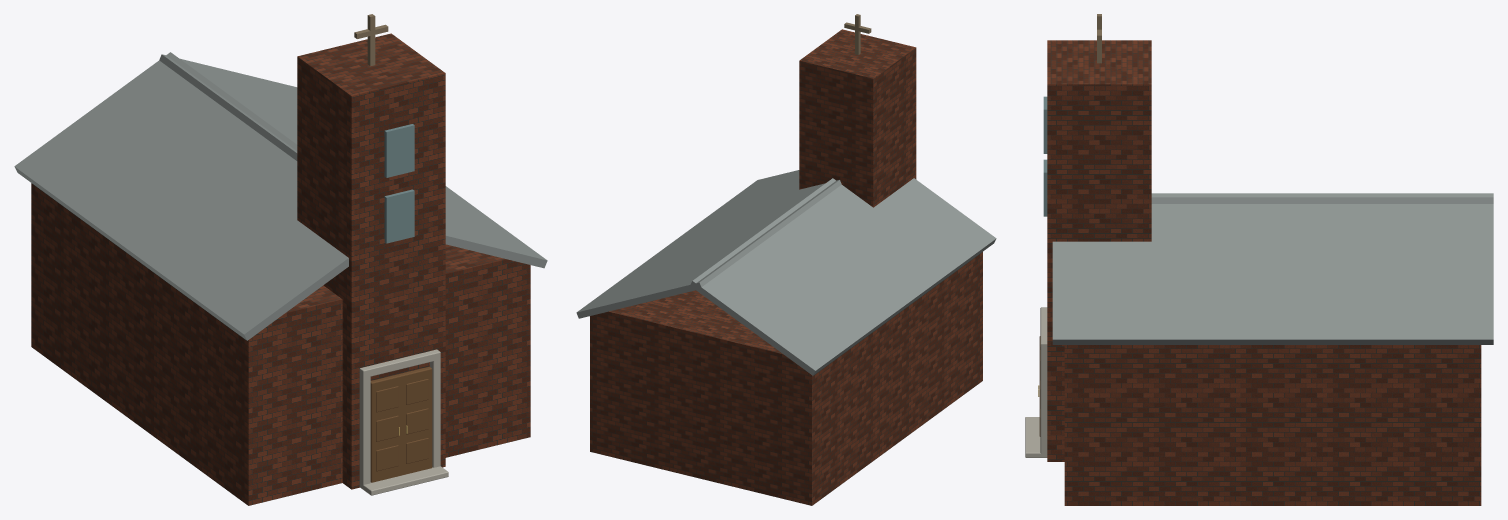
The model's file is chapel.glb.
3 views of the same model, side by side, from view 1: azimuth 30°, elevation 25°; view 2: azimuth 150°, elevation 25°; view 3: azimuth 270°, elevation 25° (orthographic). The views are drawn at different scales.
Visible parts, largest first — view 1: chapel nave, pitched roof, chapel door, entry stone jamb, tower window, cross; view 2: chapel nave, pitched roof; view 3: chapel nave, pitched roof, entry stone jamb, tower window.
Boxes of the visible parts, left/top/right/bottom form: chapel nave: left=31, top=33, right=530, bottom=505; pitched roof: left=14, top=52, right=547, bottom=340; chapel door: left=370, top=366, right=432, bottom=482; entry stone jamb: left=359, top=349, right=448, bottom=495; tower window: left=384, top=124, right=414, bottom=243; cross: left=354, top=14, right=388, bottom=66; chapel nave: left=590, top=29, right=982, bottom=505; pitched roof: left=576, top=170, right=996, bottom=375; chapel nave: left=1047, top=40, right=1481, bottom=505; pitched roof: left=1052, top=193, right=1493, bottom=344; entry stone jamb: left=1025, top=307, right=1047, bottom=457; tower window: left=1043, top=96, right=1047, bottom=216.
Size of the model in its own units: 9.69 by 13.5 by 13.49.
7 materials, 1 textured.
